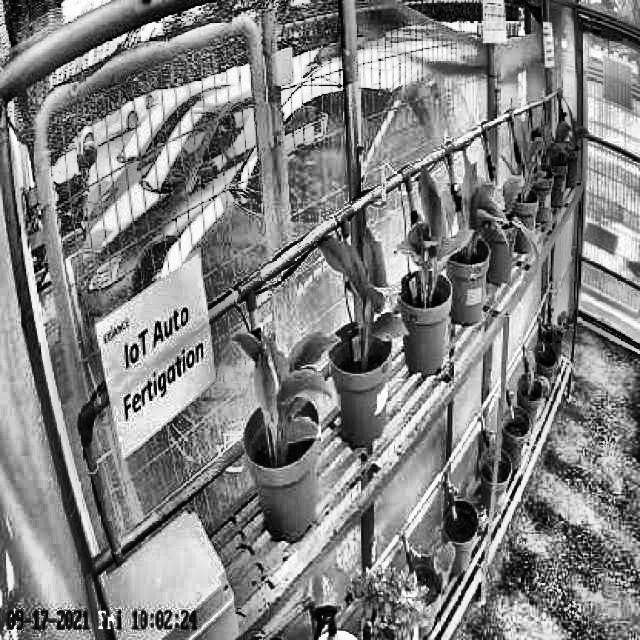plants: (235, 319, 338, 467), (312, 220, 411, 371), (396, 168, 474, 308), (438, 158, 507, 264)
